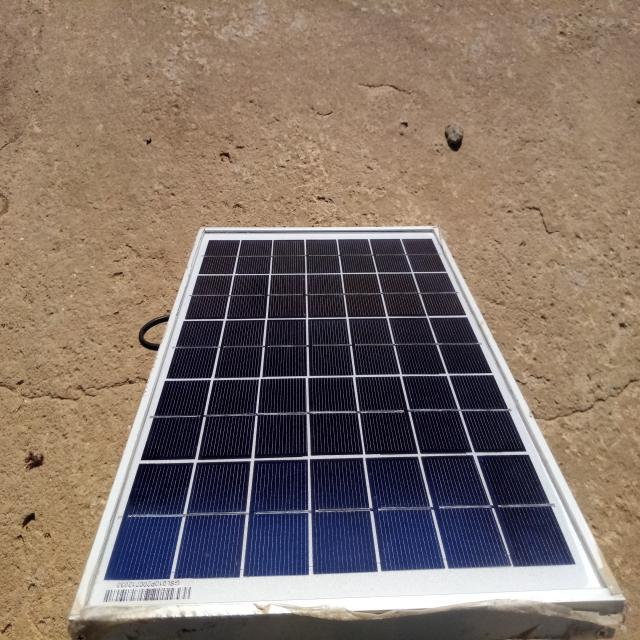no faulty: (72, 228, 625, 617)
